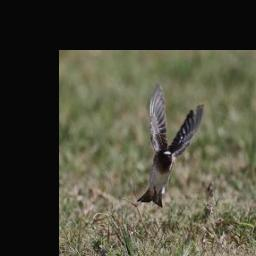Swallow: (138, 81, 204, 207)
